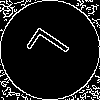L: (25, 25, 79, 74)
